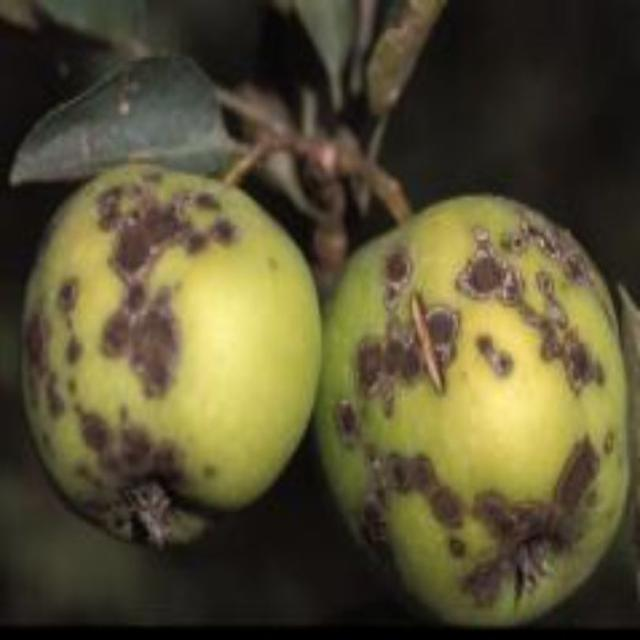Rotten Apple: (337, 120, 622, 614), (5, 131, 322, 559)
